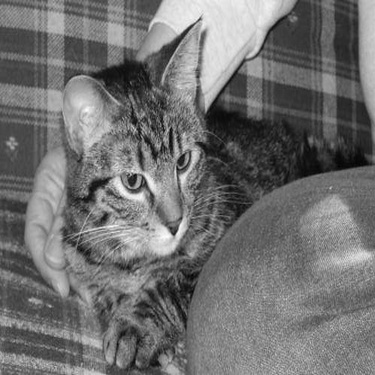cat: (9, 25, 285, 371)
